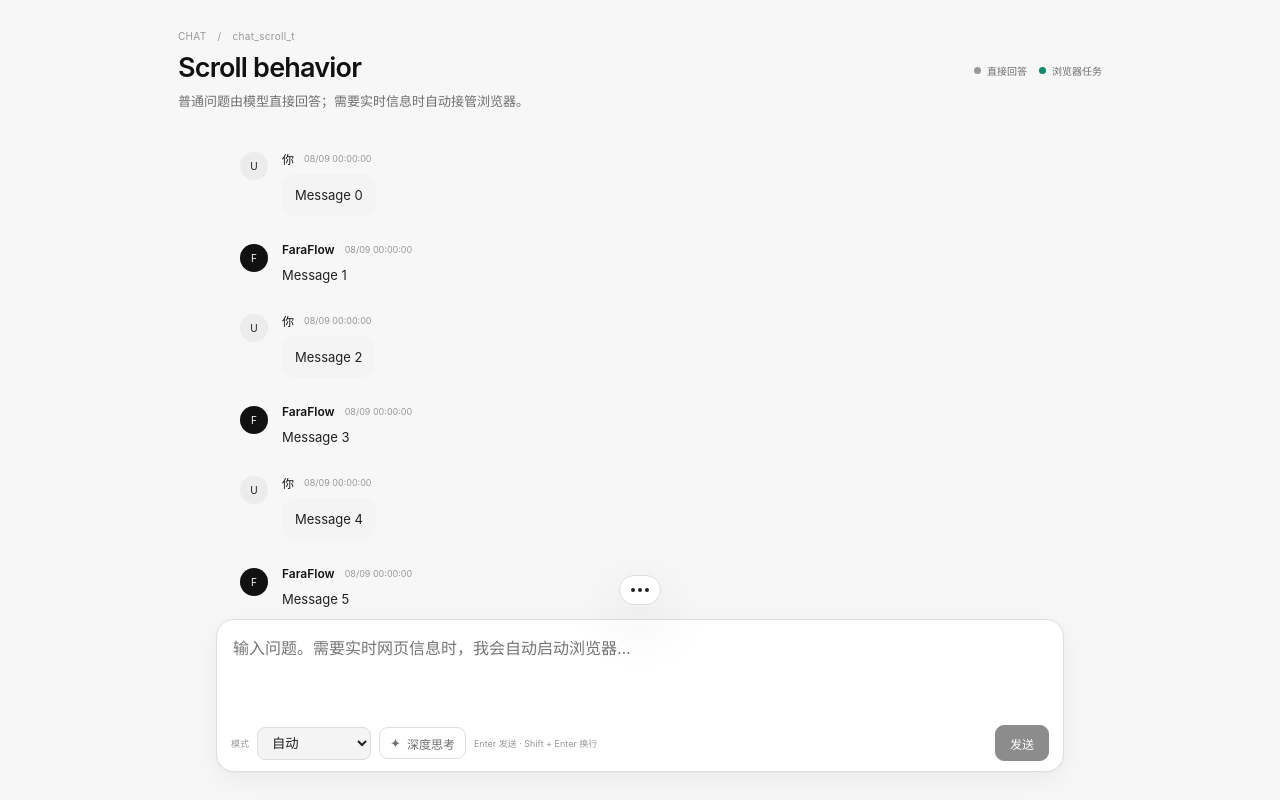
Test case: ChatPanel scrolling › keeps the reader's position until the three-dot button is clicked
(page scrolled)
Click the button named "跳到最新消息".
click(640, 590)  # box [619, 575, 661, 605]
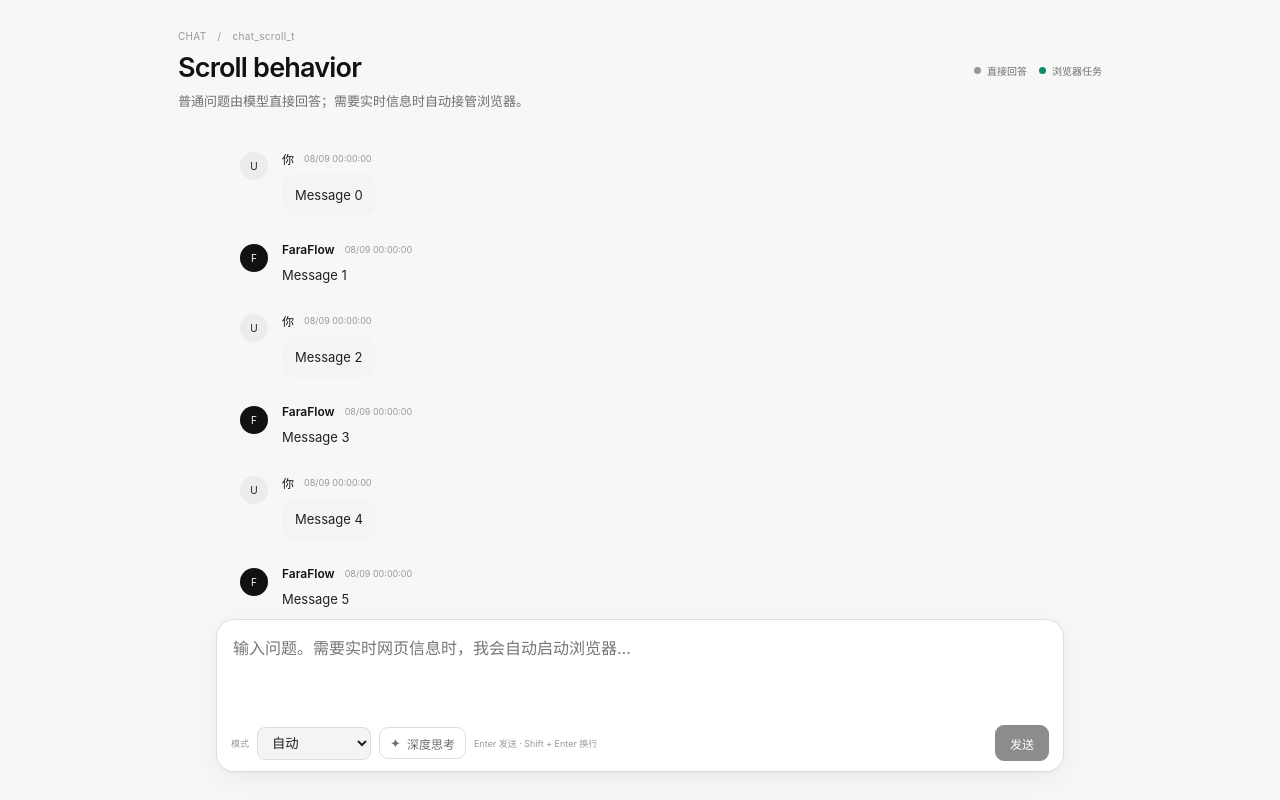
expect the button "跳到最新消息" is gone: met
